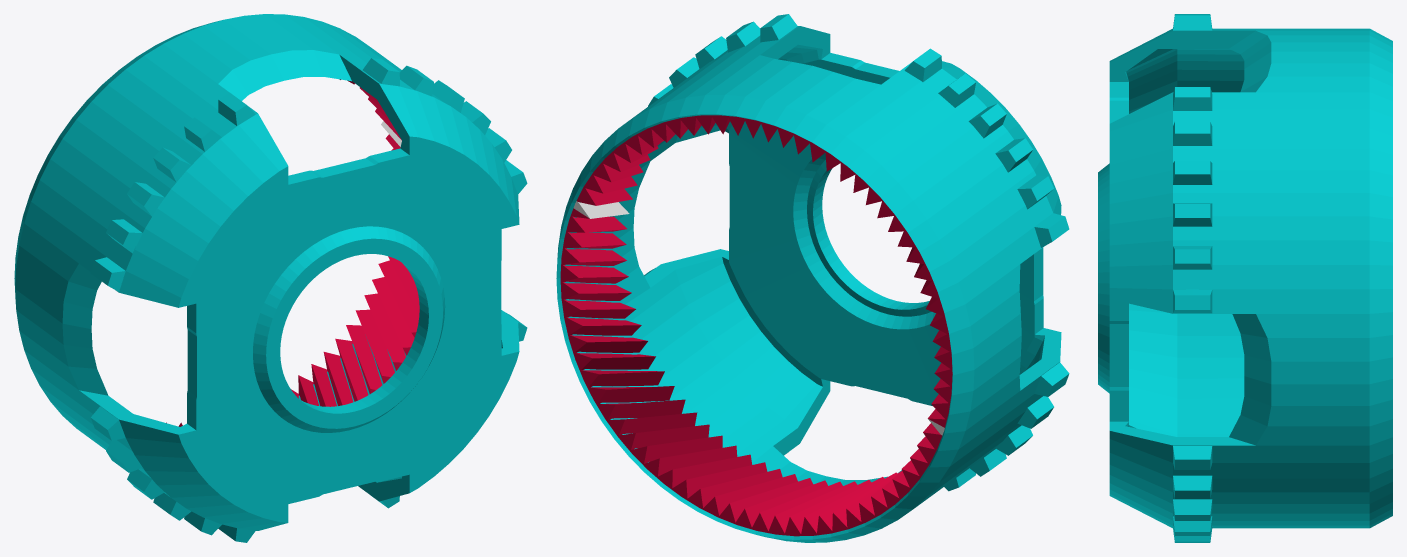
The picture shows the model from 3 angles, left to right: view 1: azimuth 30°, elevation 25°; view 2: azimuth 150°, elevation 25°; view 3: azimuth 270°, elevation 25°; orthographic projection. The views are drawn at different scales.
Visible parts, largest first — view 1: 672; view 2: 672; view 3: 672.
Boxes of the visible parts, <box> form: 672: <box>14,14,527,542</box>; 672: <box>556,14,1069,542</box>; 672: <box>1098,14,1392,542</box>.
Size of the model in its own units: 1305 by 1301 by 764.
